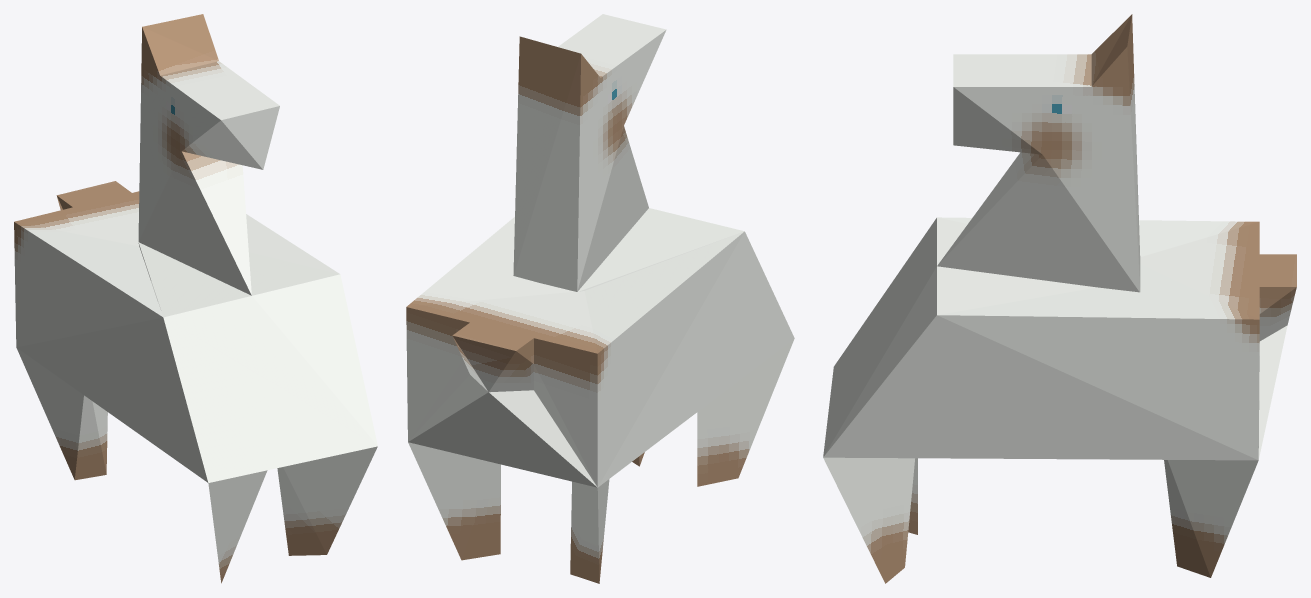
The model's file is llama.fbx.
3 views of the same model, side by side, from view 1: azimuth 30°, elevation 25°; view 2: azimuth 150°, elevation 25°; view 3: azimuth 270°, elevation 25° (orthographic). The views are drawn at different scales.
Visible parts, largest first — view 1: Cube; view 2: Cube; view 3: Cube.
Boxes of the visible parts, bbox=[...] form: Cube: bbox=[14, 14, 377, 583]; Cube: bbox=[406, 14, 794, 583]; Cube: bbox=[823, 14, 1296, 583].
Bounding box in the file's own units: 2.08 × 4.1 × 5.04.
